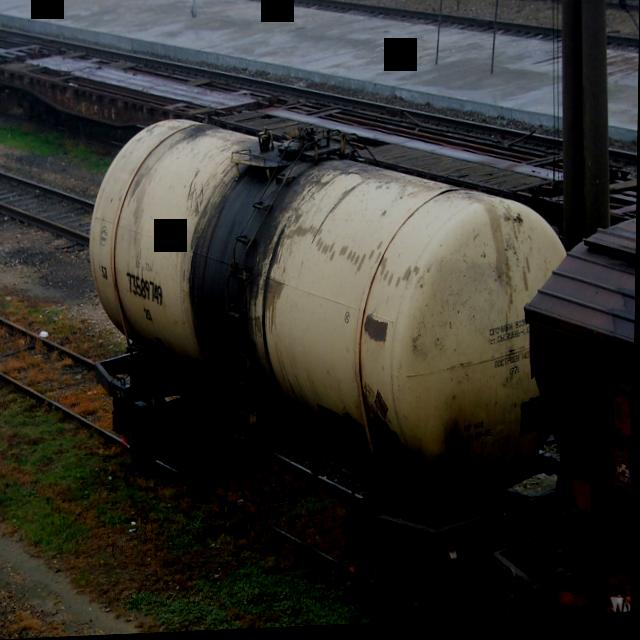hopper: (506, 201, 637, 622)
tank: (67, 81, 587, 637)
